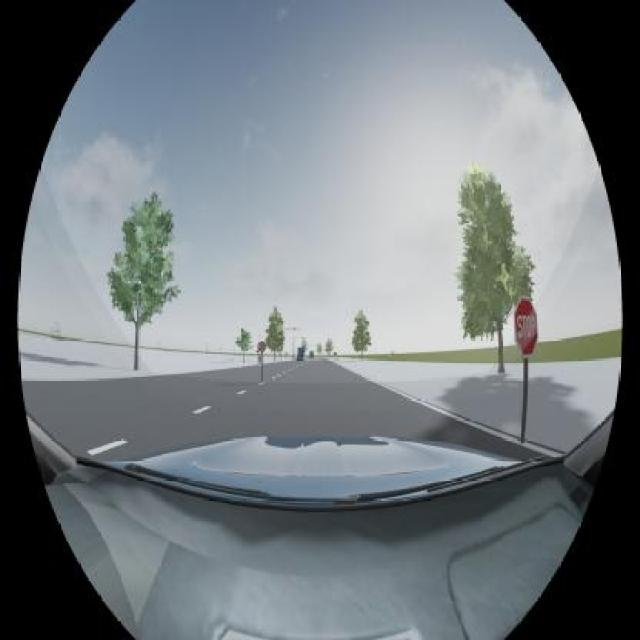forb_speed_over_20: (258, 342, 265, 353)
